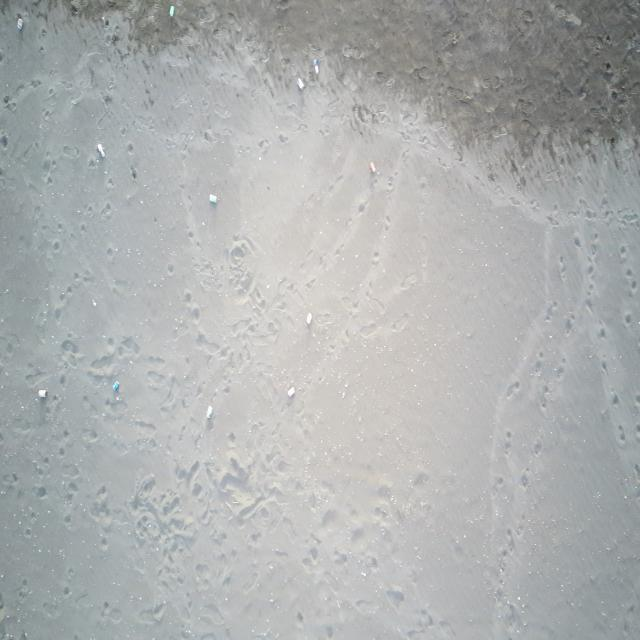tin-and-aluminum-cans: (97, 143, 107, 158), (296, 76, 306, 91), (206, 404, 214, 421), (286, 385, 295, 399), (306, 311, 314, 326), (16, 15, 23, 32), (313, 59, 320, 76), (38, 389, 48, 399), (368, 162, 376, 174), (112, 380, 119, 392), (210, 193, 218, 203), (170, 5, 176, 17)
